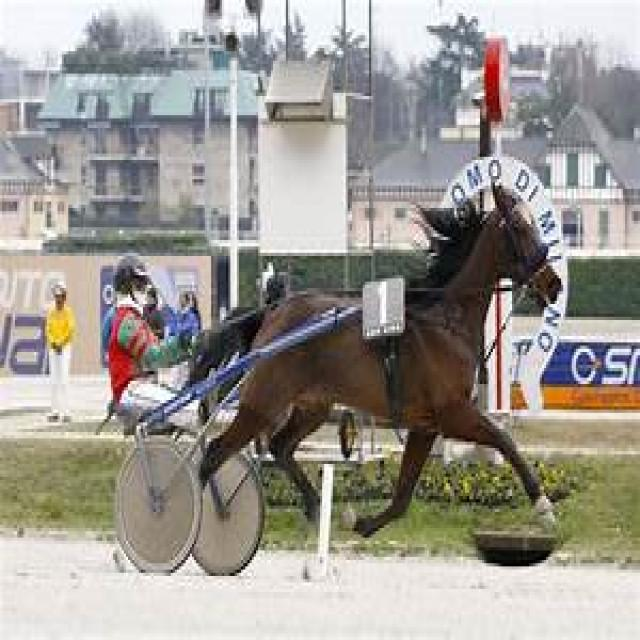horse: (188, 186, 548, 534)
